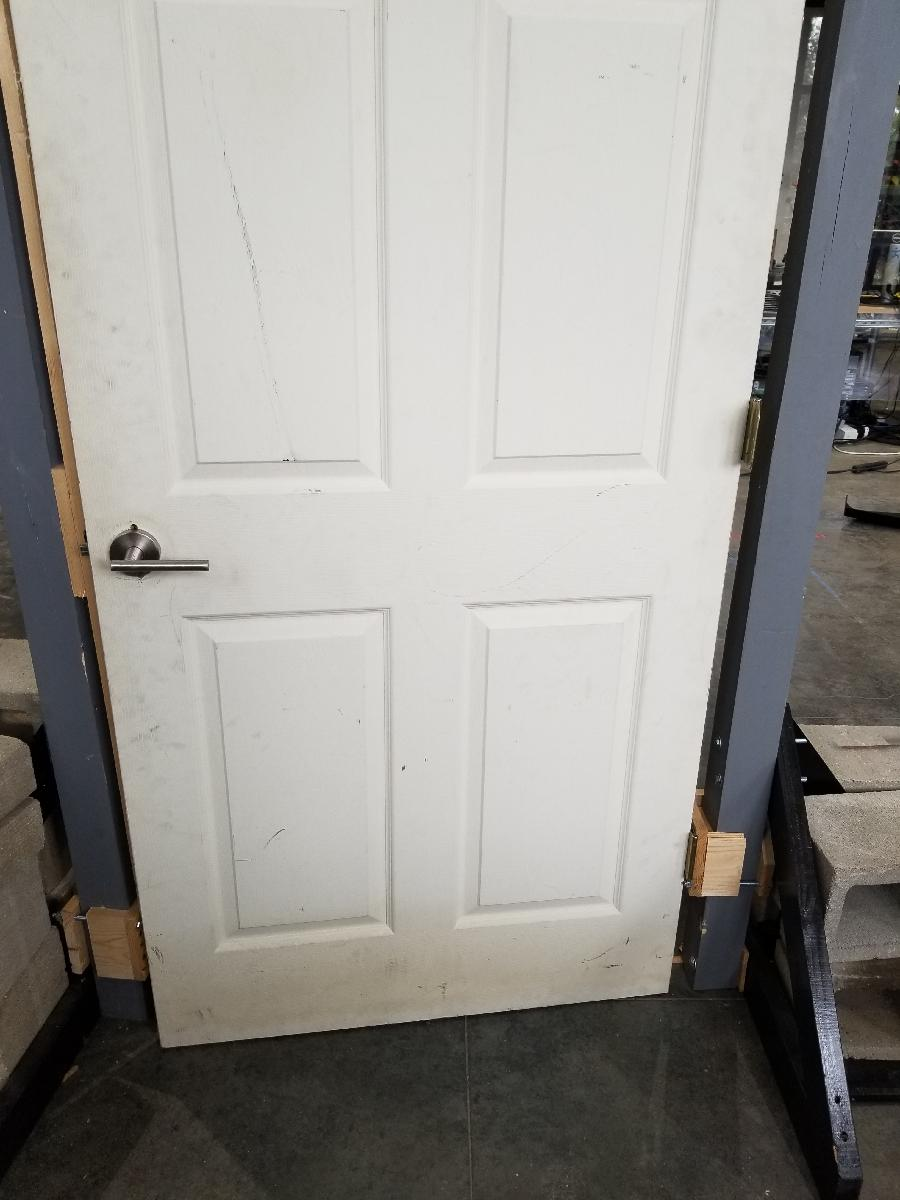doorHandle: (104, 520, 216, 585)
